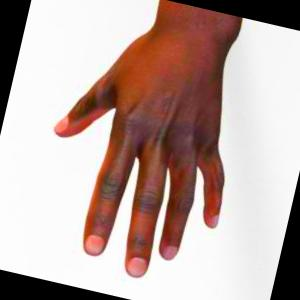paper: (55, 0, 241, 277)
